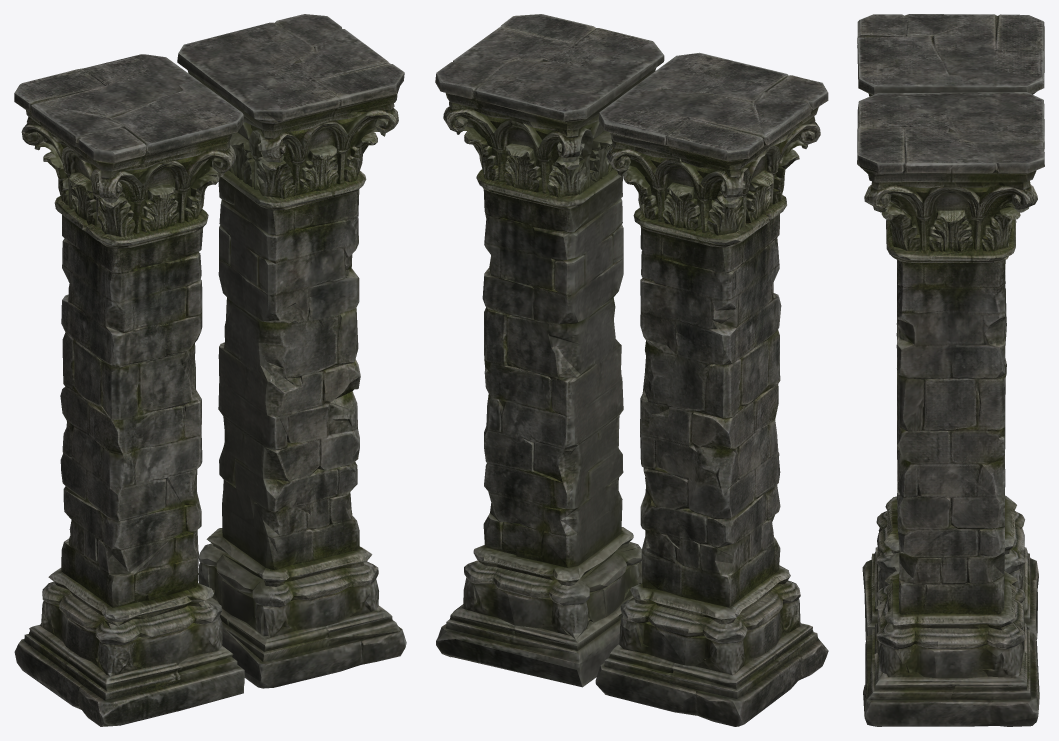
File: pillar_twin_rejected.glb
The picture shows the model from 3 angles, left to right: view 1: azimuth 30°, elevation 25°; view 2: azimuth 150°, elevation 25°; view 3: azimuth 270°, elevation 25°; orthographic projection. The views are drawn at different scales.
Visible parts, largest first — view 1: Mesh_0; view 2: Mesh_0; view 3: Mesh_0.
Boxes of the visible parts, x1=… form: Mesh_0: x1=14, y1=14, x2=406, y2=726; Mesh_0: x1=435, y1=14, x2=828, y2=726; Mesh_0: x1=857, y1=14, x2=1044, y2=726.
Size of the model in its own units: 1.08 by 1.9 by 0.5681.
Materials: 1 (1 with a texture image).
